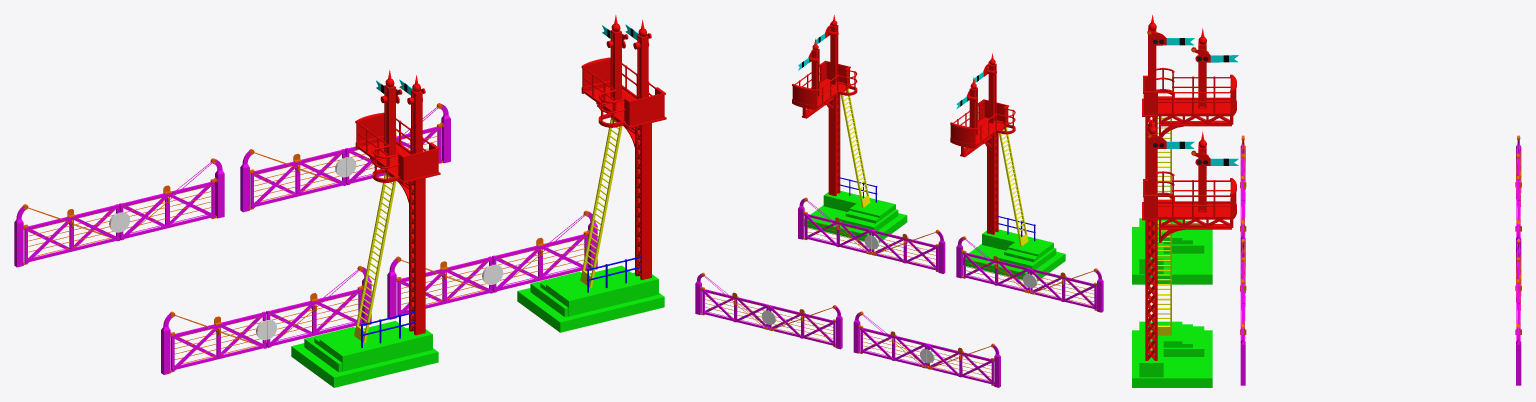
File: TrainSignalBox.fbx
3 views of the same model, side by side, from view 1: azimuth 30°, elevation 25°; view 2: azimuth 150°, elevation 25°; view 3: azimuth 270°, elevation 25° (orthographic). The views are drawn at different scales.
Parts seen in each view (by area): view 1: SignalBoxNew, SignalBoxOld, CrossingGateNew02, CrossingGateNew01, CrossingGateOld02, CrossingGateOld01; view 2: SignalBoxOld, SignalBoxNew, CrossingGateNew02, CrossingGateNew01, CrossingGateOld02, CrossingGateOld01; view 3: SignalBoxOld, SignalBoxNew, CrossingGateOld02, CrossingGateOld01, CrossingGateNew01, CrossingGateNew02.
Part boxes in pixels (x1=…): SignalBoxNew: x1=291, y1=69, x2=440, y2=387; SignalBoxOld: x1=517, y1=15, x2=666, y2=332; CrossingGateNew02: x1=14, y1=158, x2=224, y2=267; CrossingGateNew01: x1=161, y1=265, x2=371, y2=374; CrossingGateOld02: x1=387, y1=210, x2=597, y2=319; CrossingGateOld01: x1=240, y1=103, x2=450, y2=212; SignalBoxOld: x1=792, y1=15, x2=907, y2=242; SignalBoxNew: x1=950, y1=53, x2=1065, y2=281; CrossingGateNew02: x1=853, y1=311, x2=1000, y2=387; CrossingGateNew01: x1=956, y1=236, x2=1103, y2=312; CrossingGateOld02: x1=798, y1=197, x2=945, y2=273; CrossingGateOld01: x1=695, y1=272, x2=842, y2=349; SignalBoxOld: x1=1132, y1=118, x2=1238, y2=387; SignalBoxNew: x1=1132, y1=15, x2=1238, y2=284; CrossingGateOld02: x1=1240, y1=239, x2=1246, y2=385; CrossingGateOld01: x1=1515, y1=239, x2=1521, y2=385; CrossingGateNew01: x1=1240, y1=135, x2=1246, y2=249; CrossingGateNew02: x1=1515, y1=135, x2=1521, y2=249.
Size of the model in its own units: 1593 by 964 by 1274.
